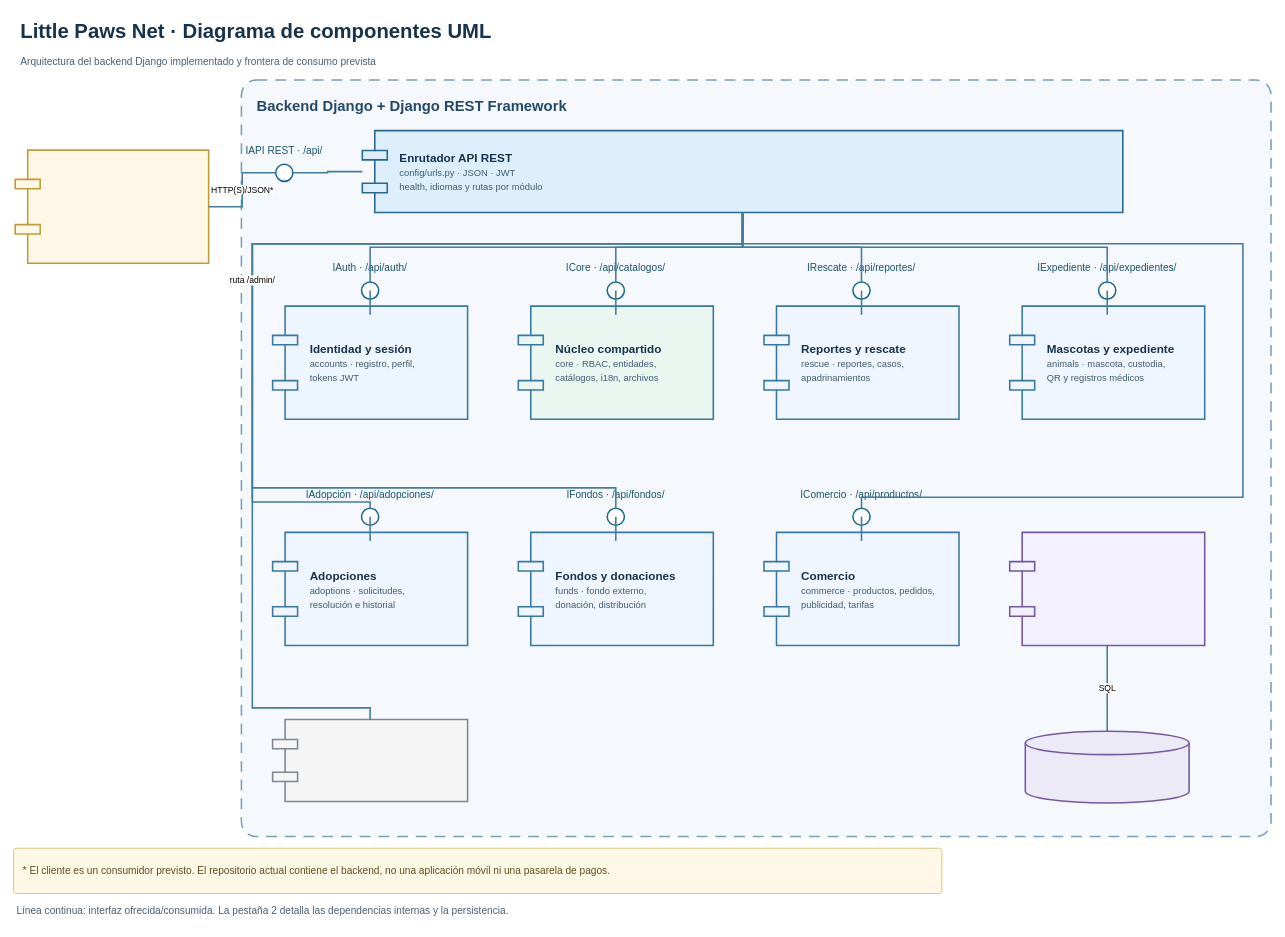
Some shapes in this 1285 by 937 pixel diagram are drawn without their labels. The centre of each missing label's shape, as x and y in pixels:
"Cliente móvil / web Prototipo de interfaz en Figma Aún no implementado" goes at point 111,206.
"Django Admin Herramienta interna opcional /admin/ · no es la app final" goes at point 369,760.
"MySQL 8 Base local por entorno" goes at point 1107,766.
"ORM y migraciones Django Models · migrations Persistencia transaccional" goes at point 1107,588.
